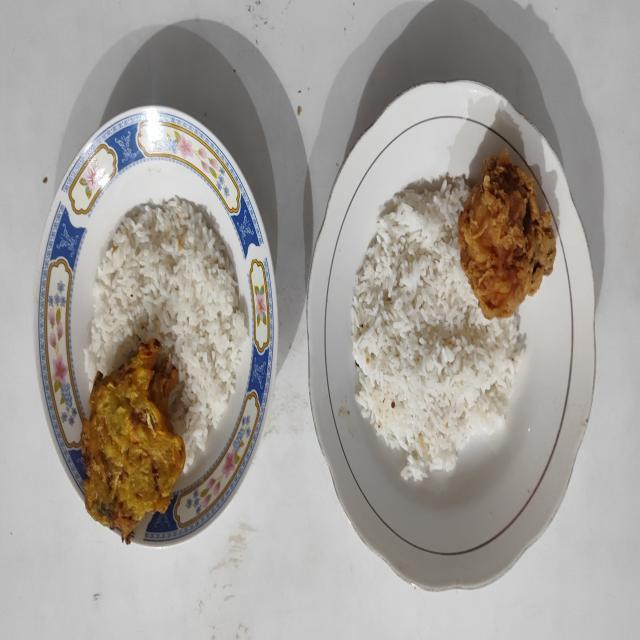nasi_putih: (352, 174, 524, 480), (85, 196, 249, 473)
